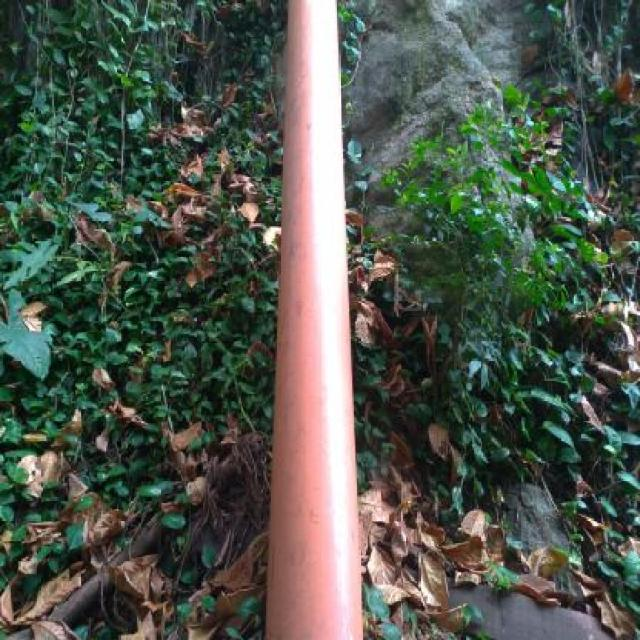gas: (264, 0, 364, 635)
